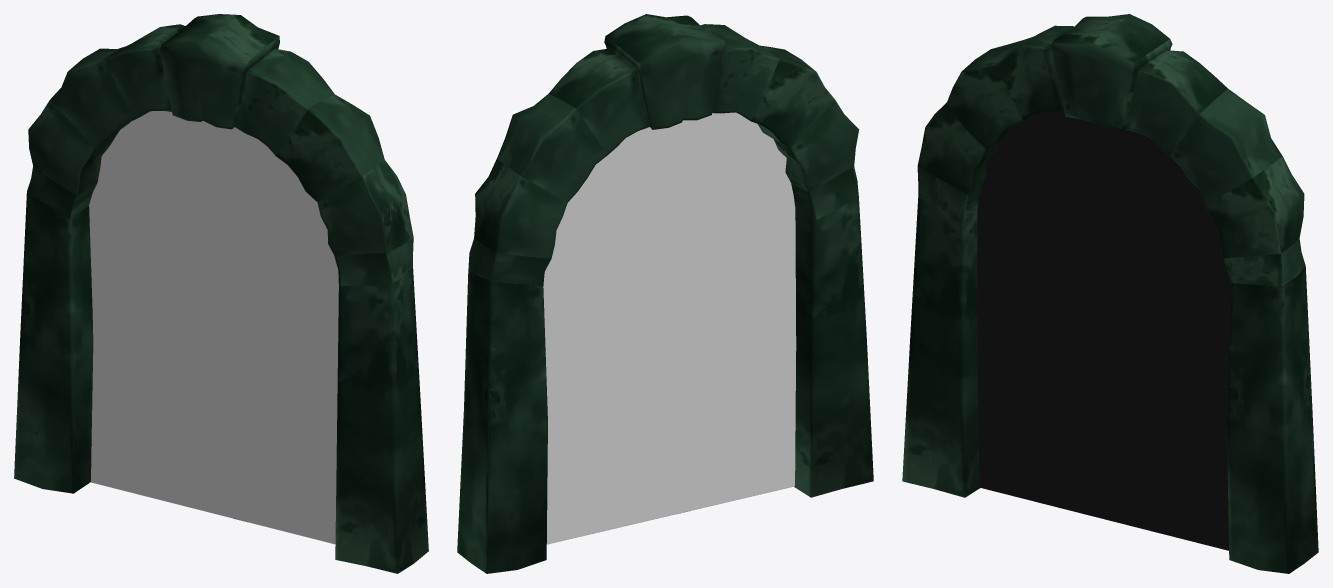
Rendered from LeftDoor-transformed.glb.
The picture shows the model from 3 angles, left to right: view 1: azimuth 90°, elevation 25°; view 2: azimuth 150°, elevation 25°; view 3: azimuth 270°, elevation 25°; orthographic projection.
Visible parts, largest first — view 1: Retopo_Circle.001, StoneGateway.001; view 2: Retopo_Circle.001, StoneGateway.001; view 3: Retopo_Circle.001, StoneGateway.001.
Boxes of the visible parts, bbox=[...] form: Retopo_Circle.001: bbox=[89, 111, 338, 544]; StoneGateway.001: bbox=[14, 14, 428, 573]; Retopo_Circle.001: bbox=[512, 112, 796, 544]; StoneGateway.001: bbox=[457, 14, 873, 573]; Retopo_Circle.001: bbox=[977, 112, 1230, 550]; StoneGateway.001: bbox=[902, 14, 1318, 573].
Size of the model in its own units: 2.01 by 3.98 by 3.04.
Materials: 3 (3 with a texture image).
